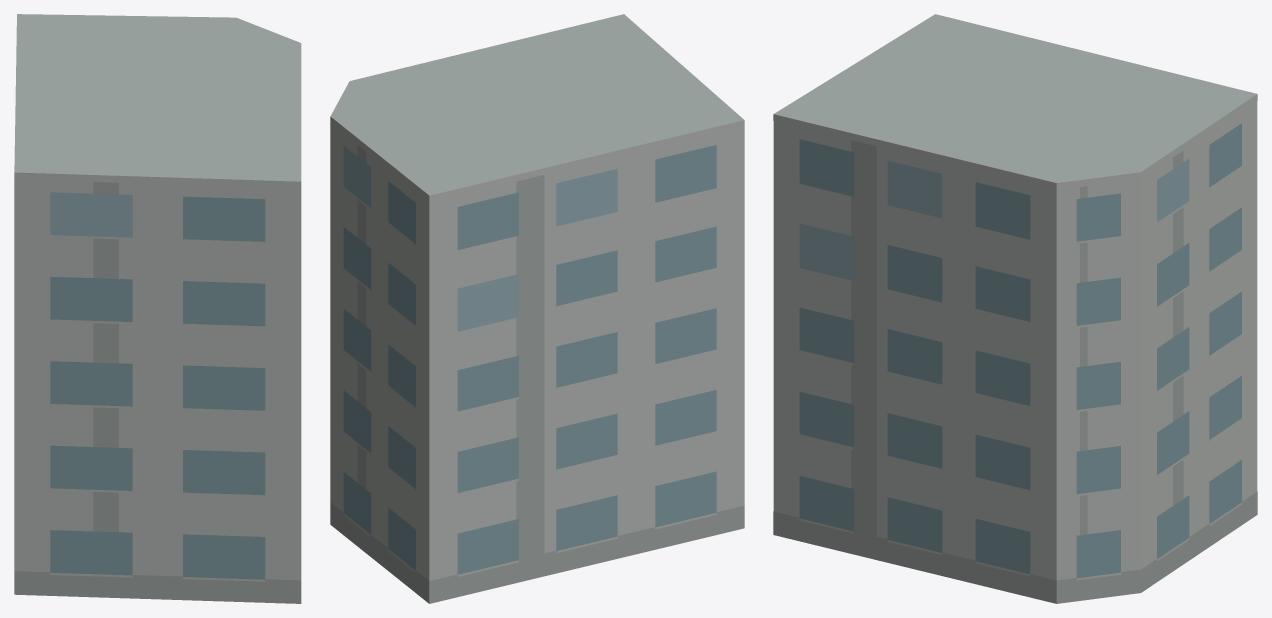
File: survey-upis-32680208.glb
The picture shows the model from 3 angles, left to right: view 1: azimuth 30°, elevation 25°; view 2: azimuth 150°, elevation 25°; view 3: azimuth 270°, elevation 25°; orthographic projection. The views are drawn at different scales.
Parts seen in each view (by area): view 1: survey-upis-32680208.tmp; view 2: survey-upis-32680208.tmp; view 3: survey-upis-32680208.tmp.
Boxes of the visible parts, bbox=[...] form: survey-upis-32680208.tmp: bbox=[14, 14, 301, 603]; survey-upis-32680208.tmp: bbox=[330, 14, 744, 603]; survey-upis-32680208.tmp: bbox=[773, 14, 1257, 603].
Size of the model in its own units: 12.81 by 14.85 by 15.49.
